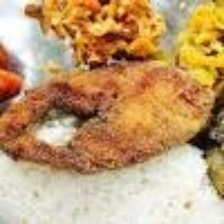rice: (0, 157, 224, 224)
